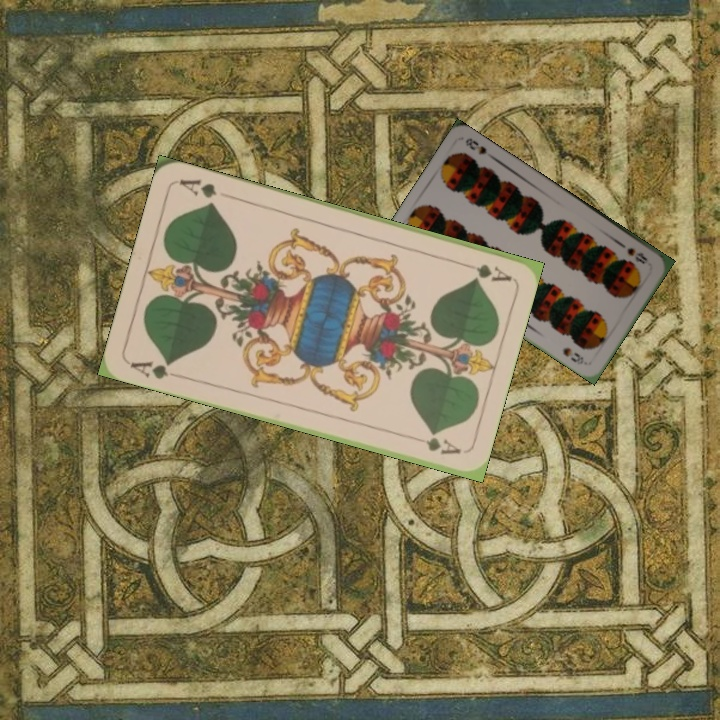GA: (126, 356, 184, 382), (455, 258, 513, 284)
S8: (623, 243, 650, 267)
